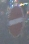No entry: (6, 5, 24, 38)
